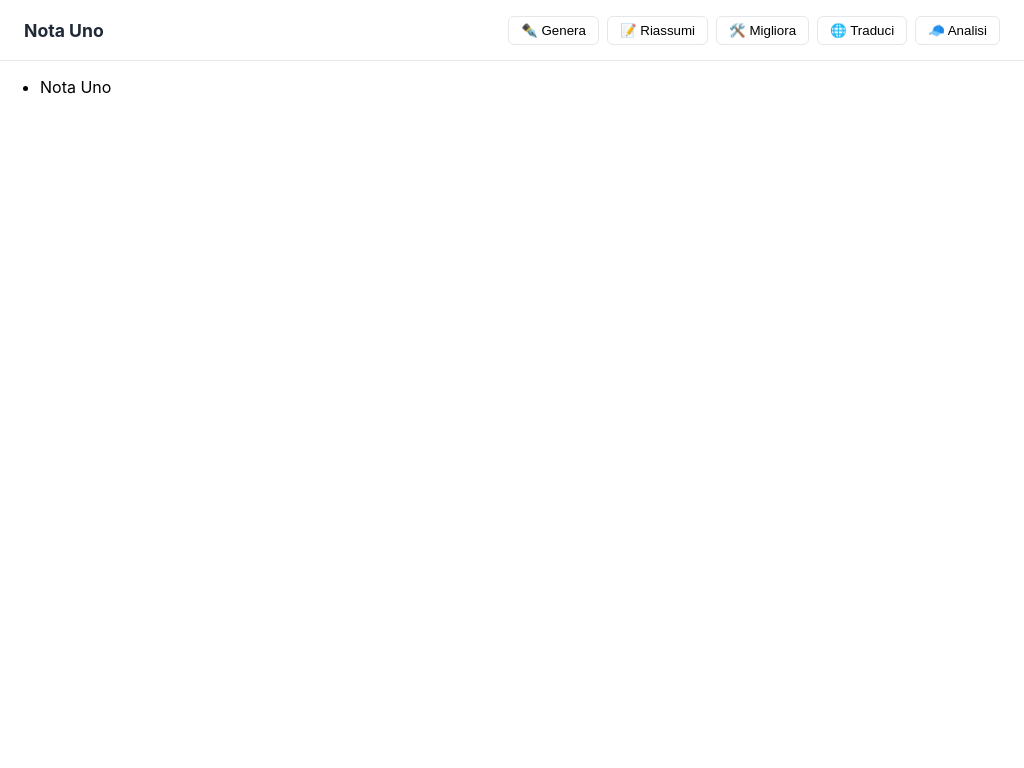
it: TopBar integration (real UI flow) › click su "Genera" poi "Annulla" interrompe la richiesta e mostra lo stato nel dialog
Click the button "✒️ Genera".
click(554, 30)  # box [508,16,599,44]
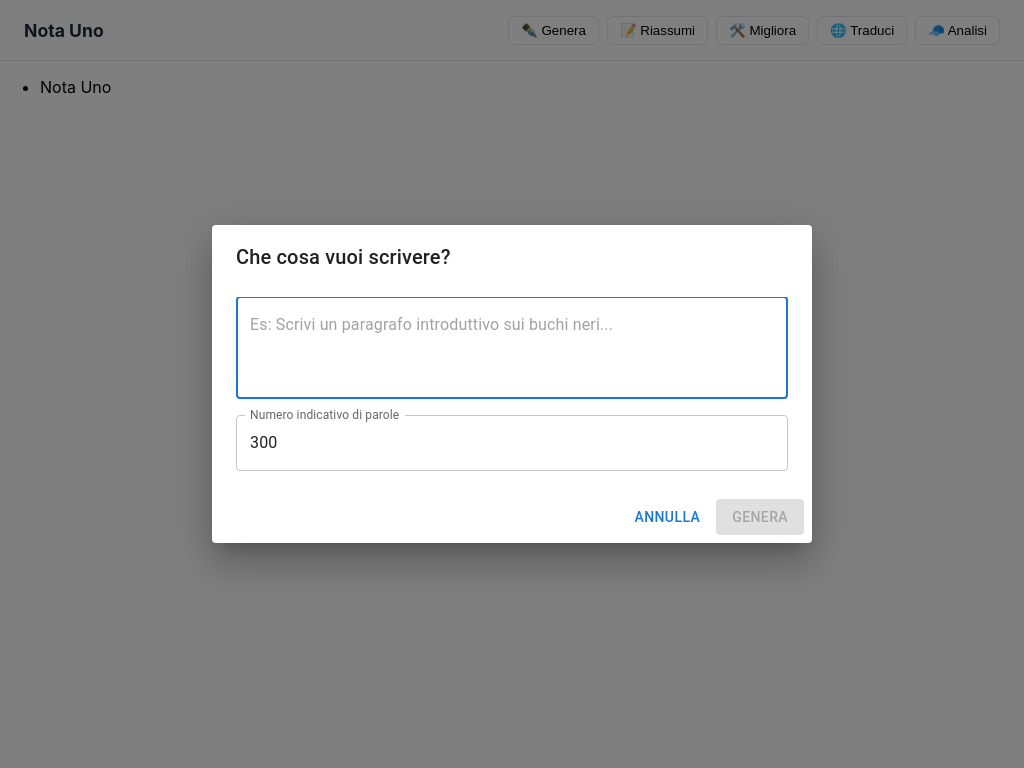
Type "Scrivi una intro" into the text box with placeholder "Es: Scrivi un paragrafo introduttivo sui buchi neri...".
click(512, 348); type("Scrivi una intro")  # box [250,313,774,382]
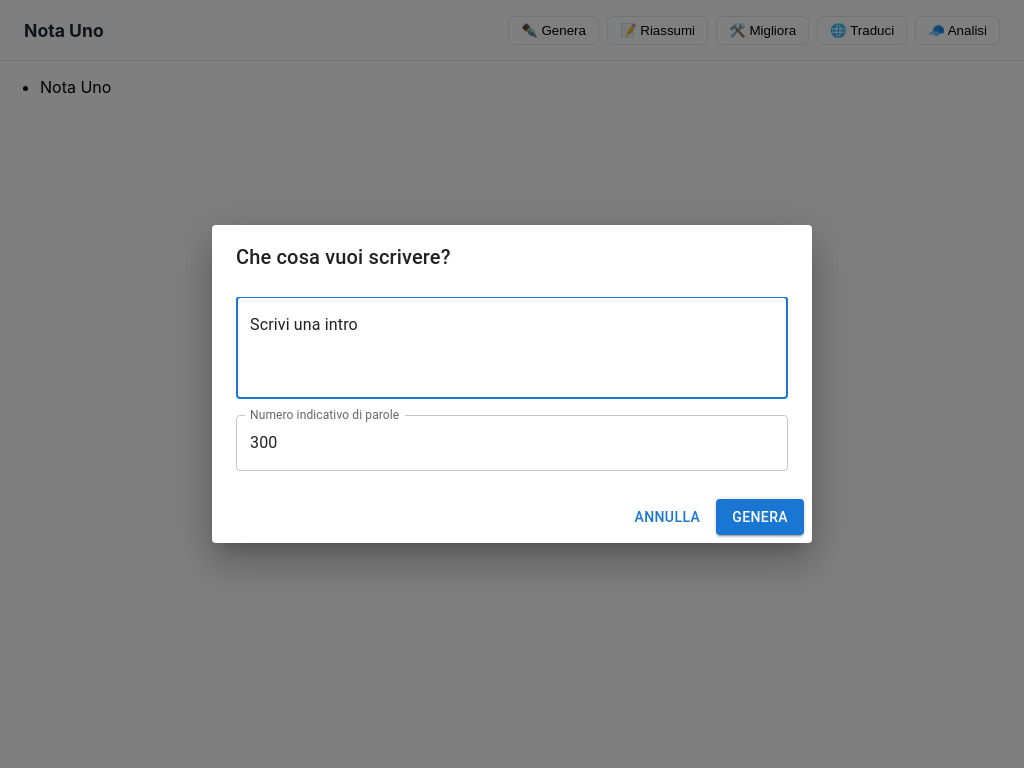
Click the button "Genera".
click(760, 517)  # box [716,499,804,535]
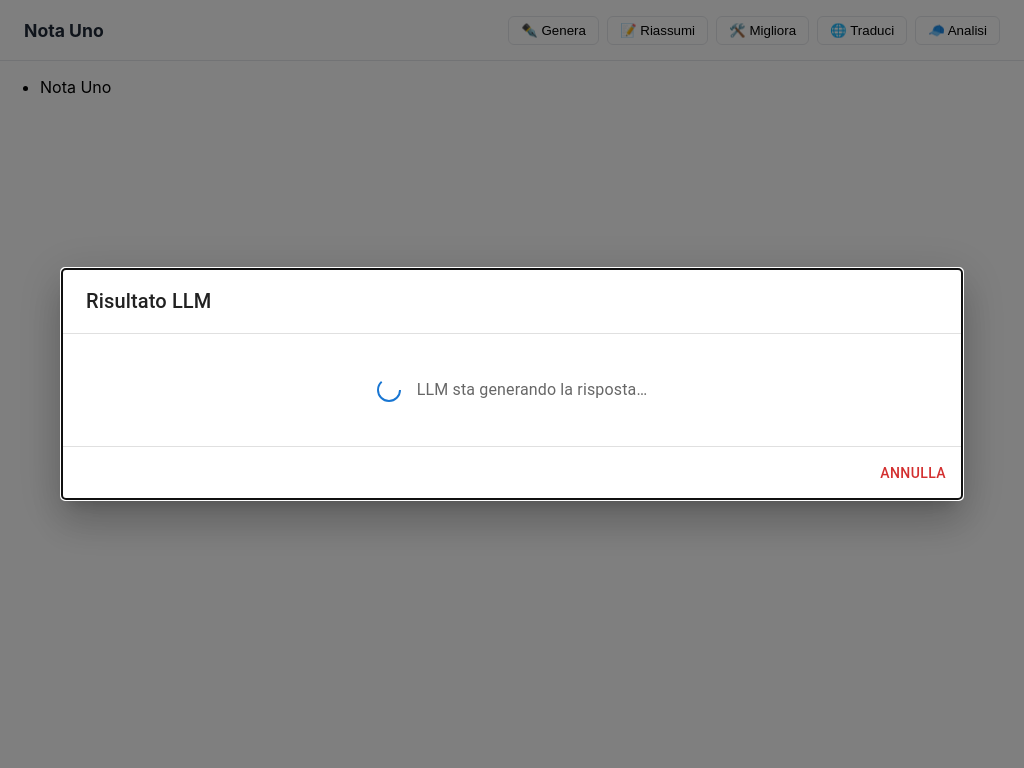
Click the button "Annulla".
click(913, 473)  # box [872,455,954,491]
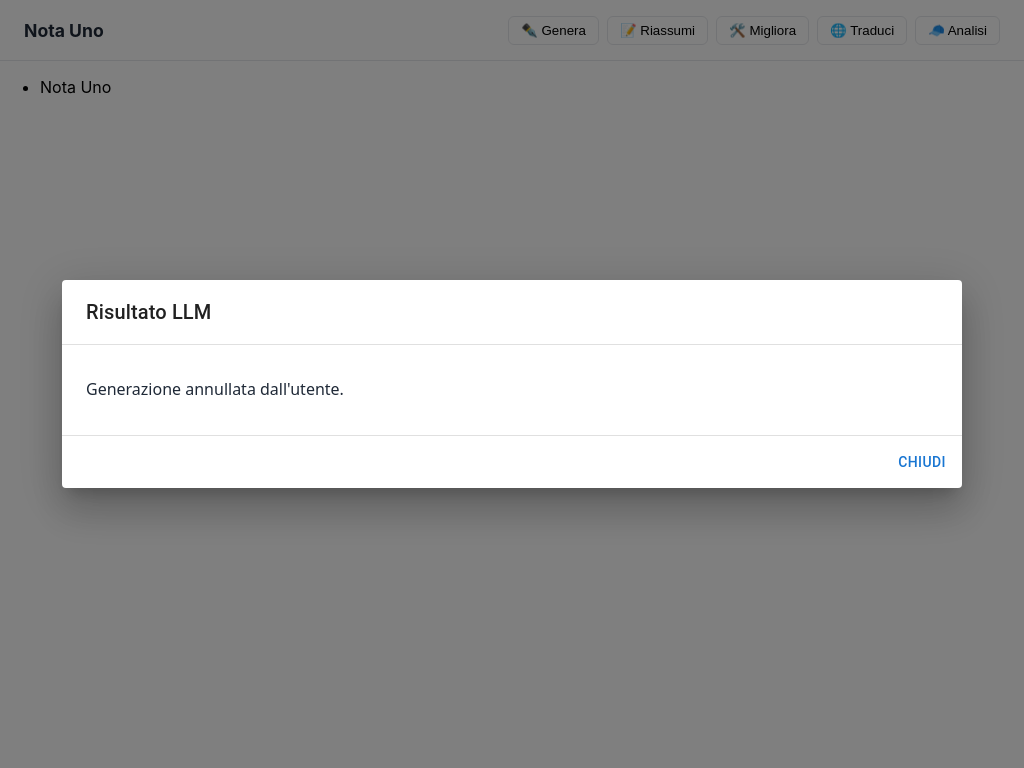
Expected: the text "Generazione annullata dall'utente." is shown, [86,378,344,400]
